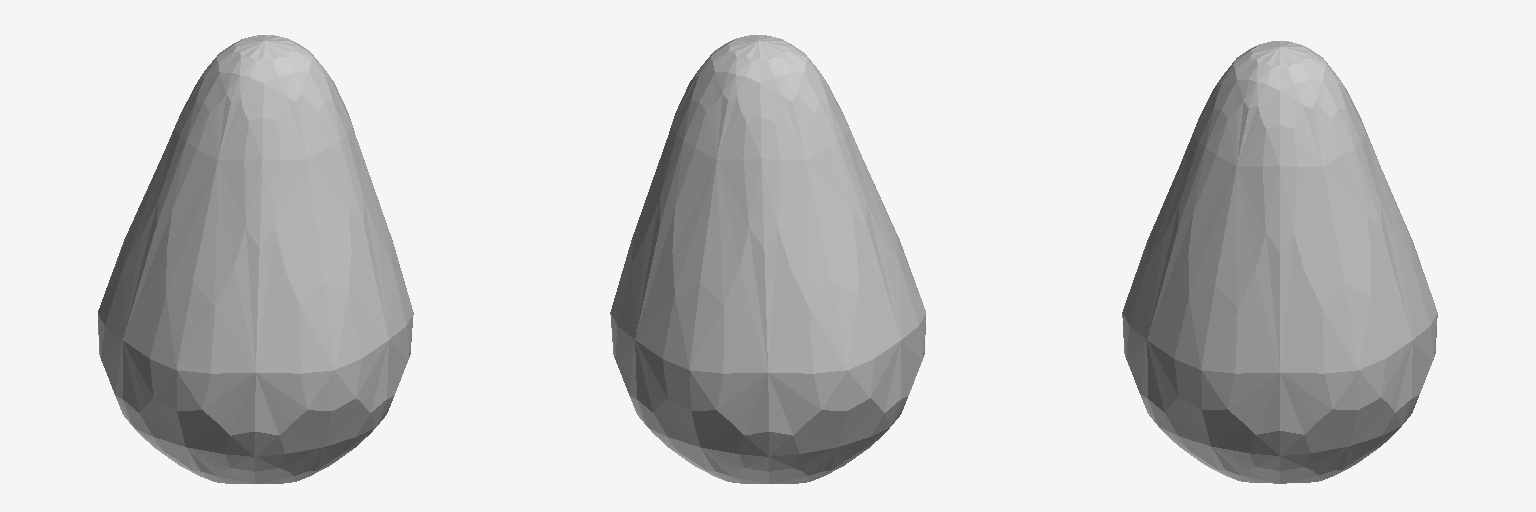
The model's file is eggy.obj.
3 views of the same model, side by side, from view 1: azimuth 30°, elevation 25°; view 2: azimuth 150°, elevation 25°; view 3: azimuth 270°, elevation 25° (orthographic).
Parts seen in each view (by area): view 1: Sphere01; view 2: Sphere01; view 3: Sphere01.
Boxes of the visible parts, box(x1,y1,x2,y2) form: Sphere01: box(98, 35, 413, 483); Sphere01: box(610, 35, 925, 483); Sphere01: box(1122, 41, 1437, 483).
Size of the model in its own units: 1.18 by 1.81 by 1.21.